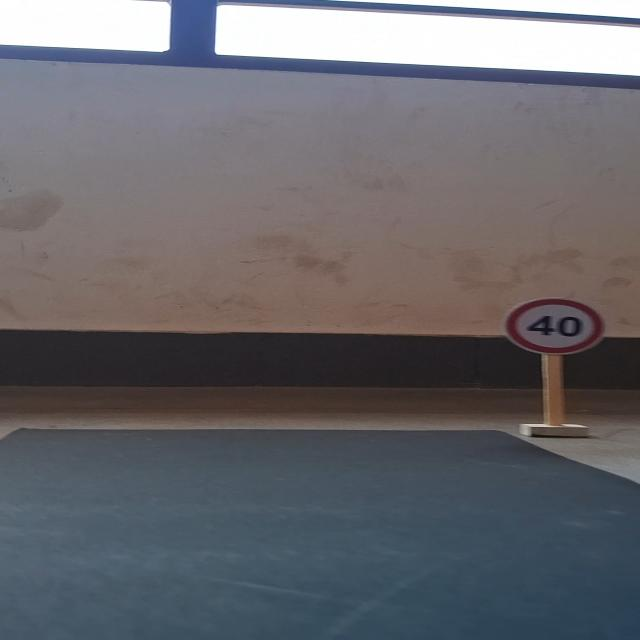Speed40: (500, 292, 609, 358)
